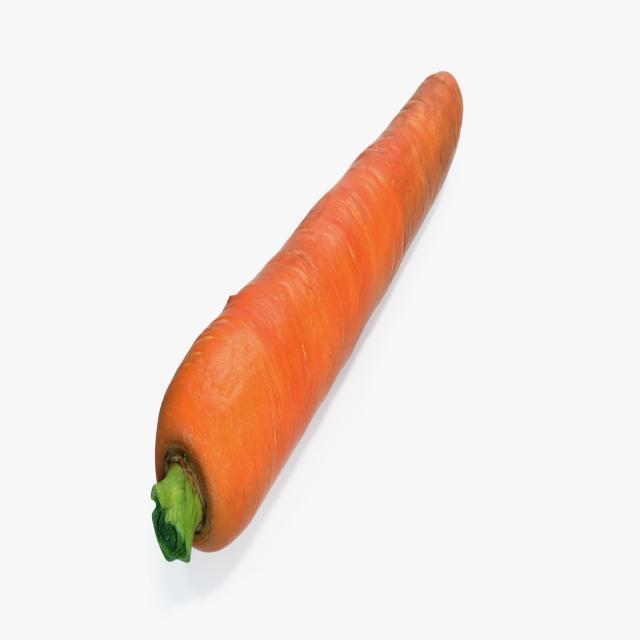carrot: (147, 59, 465, 580)
